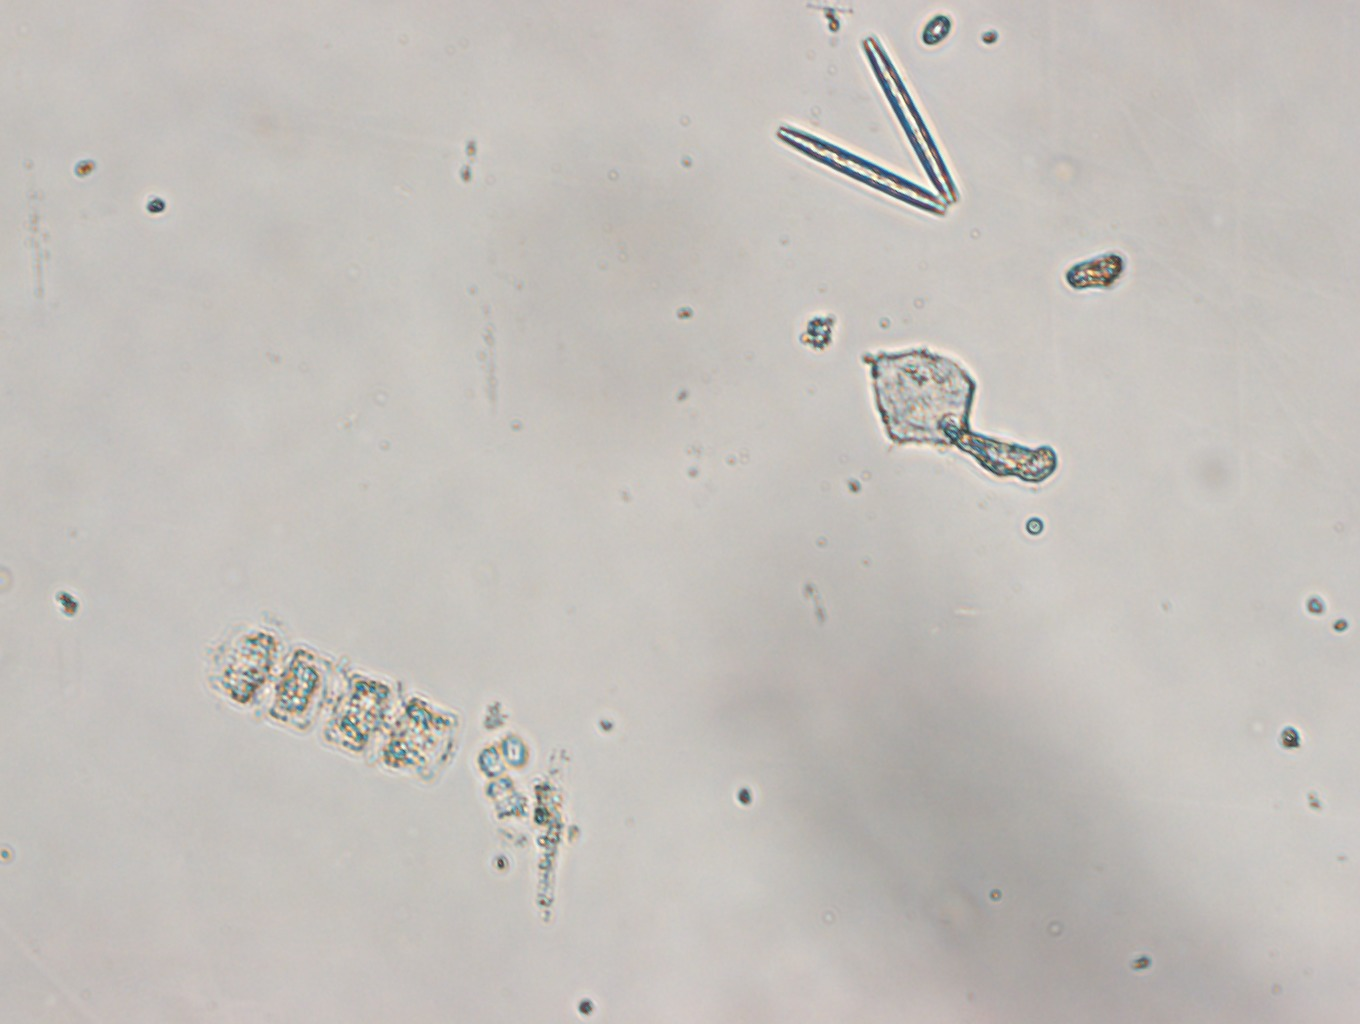detonula pumila: (200, 622, 474, 778)
thalassionema frauenfeldii: (774, 37, 973, 217)
